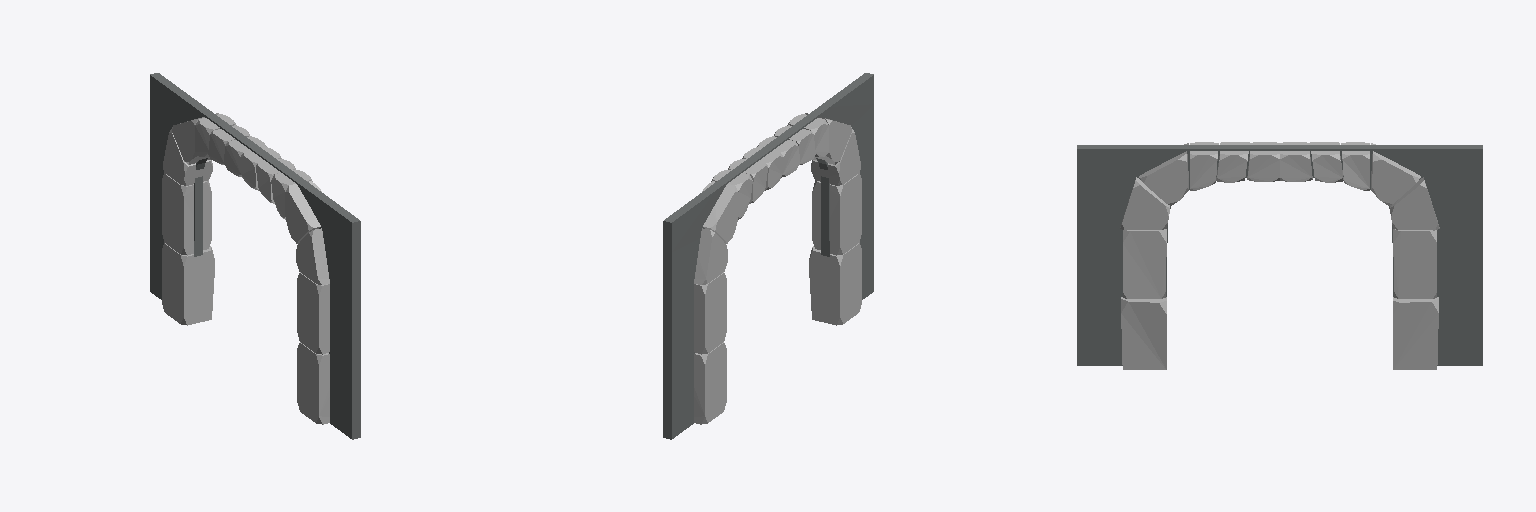
3 views of the same model, side by side, from view 1: azimuth 30°, elevation 25°; view 2: azimuth 150°, elevation 25°; view 3: azimuth 270°, elevation 25° (orthographic).
Parts seen in each view (by area): view 1: Cube.001_Cube.004; view 2: Cube.001_Cube.004; view 3: Cube.001_Cube.004.
Part boxes in pixels (left/top/right/bottom): Cube.001_Cube.004: left=150, top=73, right=360, bottom=439; Cube.001_Cube.004: left=663, top=73, right=873, bottom=439; Cube.001_Cube.004: left=1077, top=142, right=1482, bottom=369.
Bounding box in the file's own units: 0.443 × 2.85 × 4.83.
Materials: 1 (1 with a texture image).